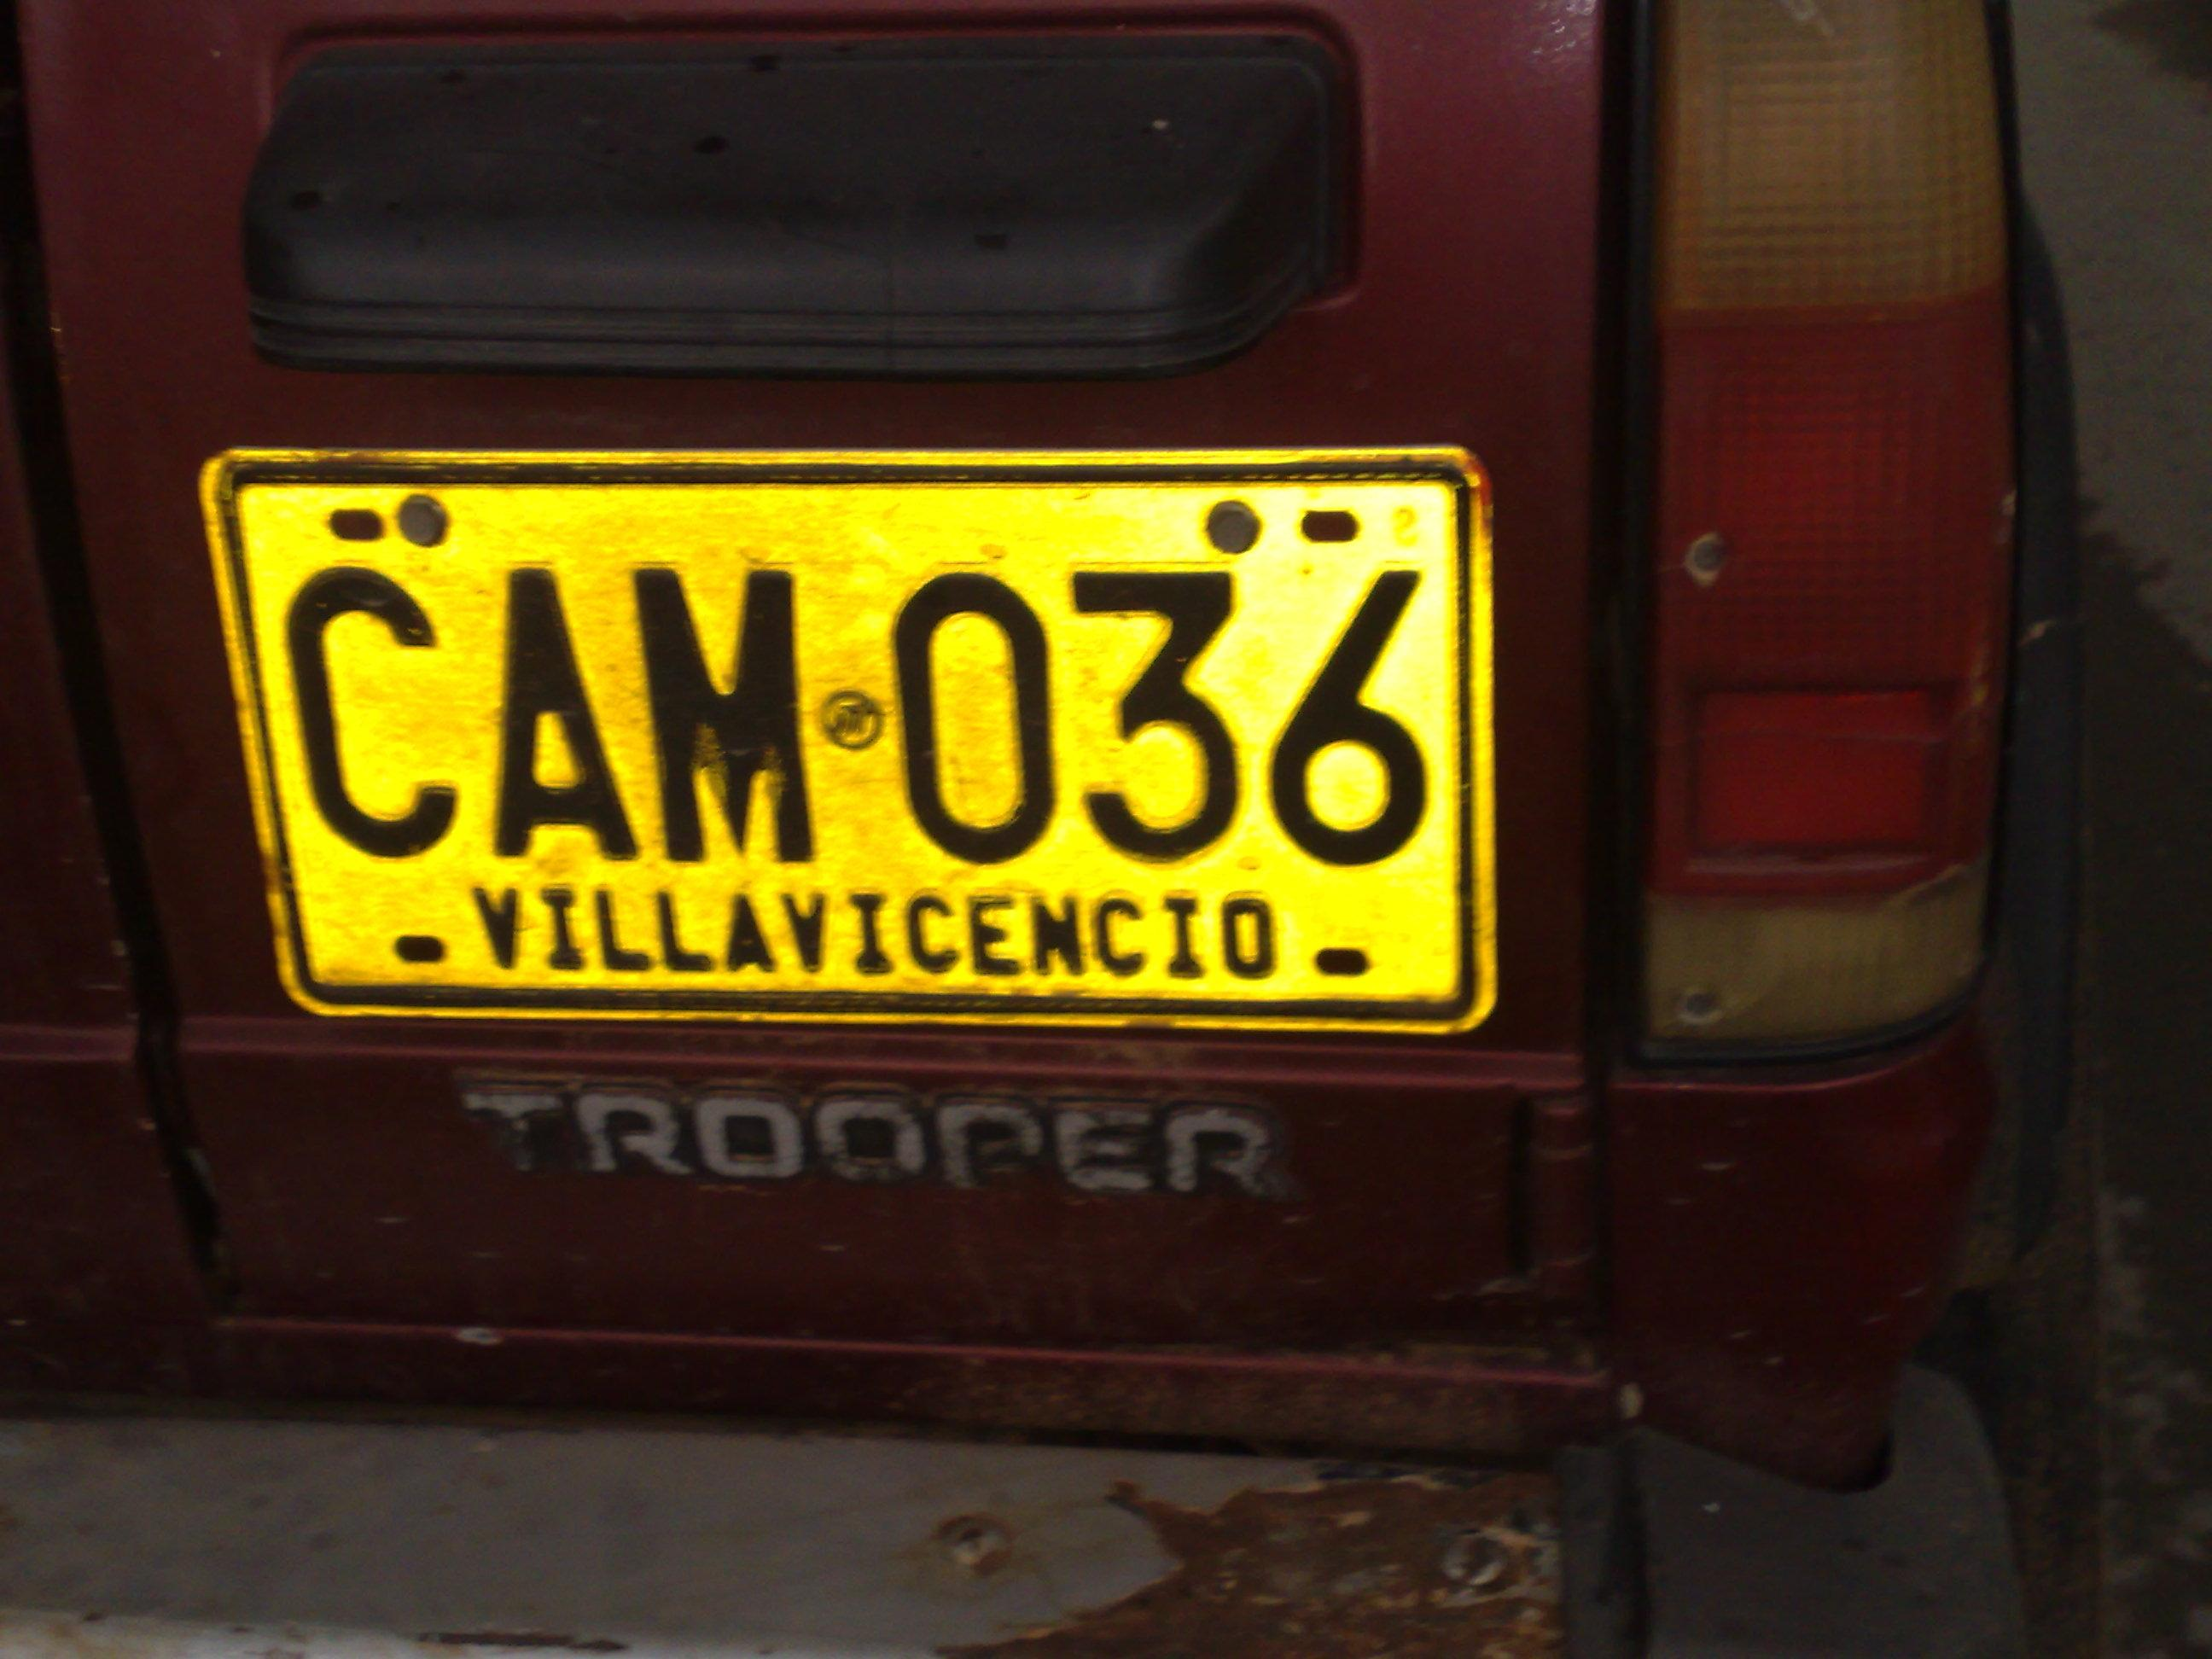placas: (183, 433, 1508, 1039)
